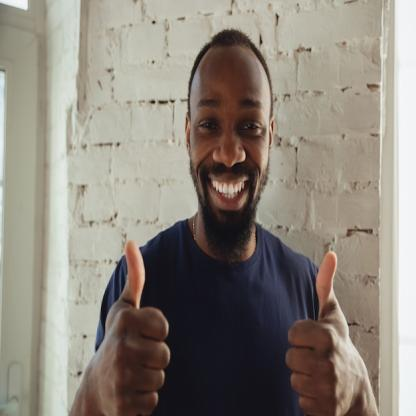thumb_up: (86, 237, 172, 416), (282, 247, 359, 416)
